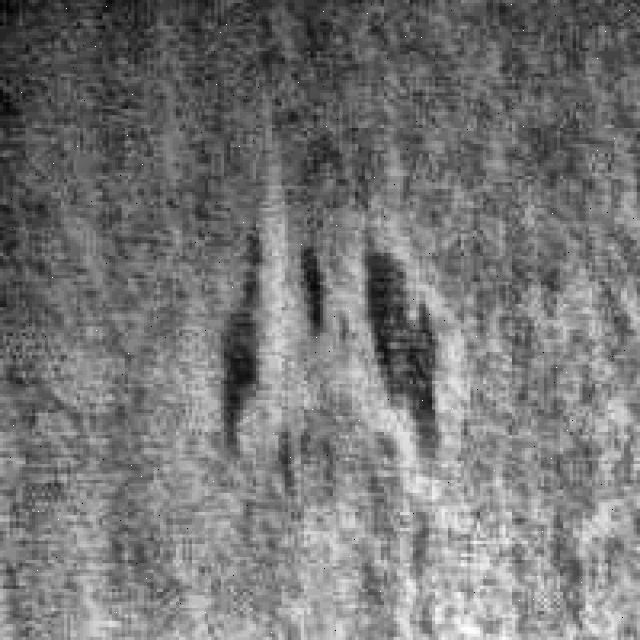Patches: (346, 224, 464, 458), (198, 205, 294, 461), (282, 230, 358, 356)
